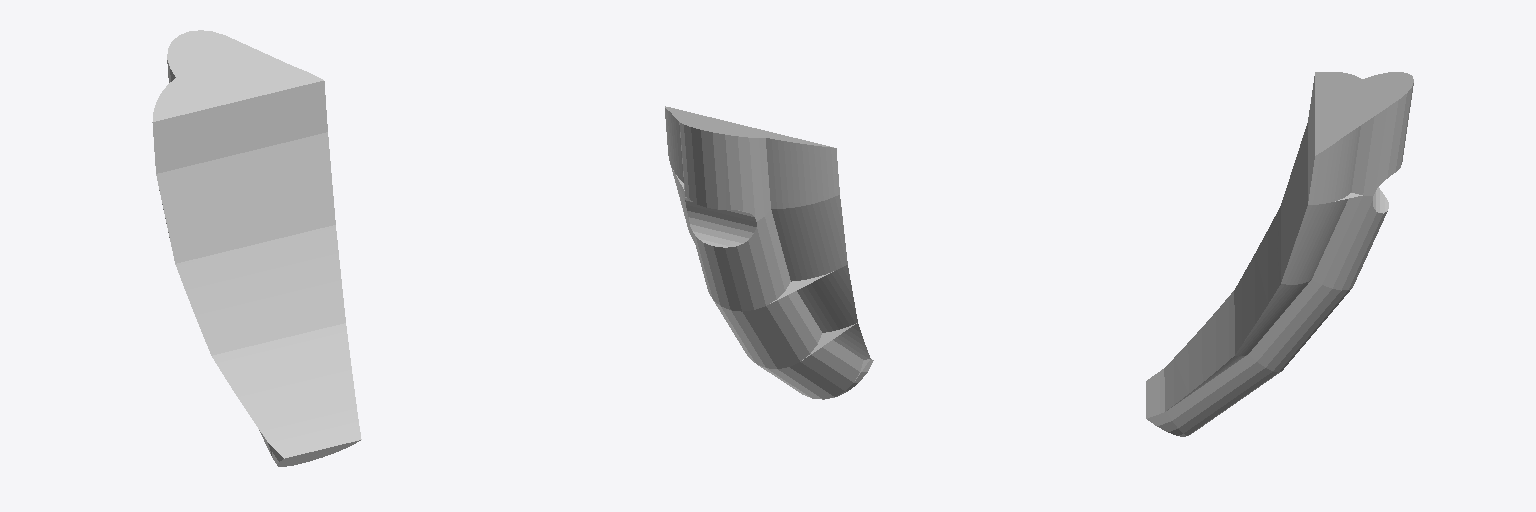
File: coqueBasCorps.obj
3 views of the same model, side by side, from view 1: azimuth 30°, elevation 25°; view 2: azimuth 150°, elevation 25°; view 3: azimuth 270°, elevation 25° (orthographic).
Visible parts, largest first — view 1: Mesh1 Model; view 2: Mesh1 Model; view 3: Mesh1 Model.
Part boxes in pixels (left/top/right/bottom): Mesh1 Model: left=152, top=30, right=361, bottom=466; Mesh1 Model: left=665, top=106, right=873, bottom=399; Mesh1 Model: left=1146, top=72, right=1413, bottom=436.
Size of the model in its own units: 40 by 77.94 by 54.08.